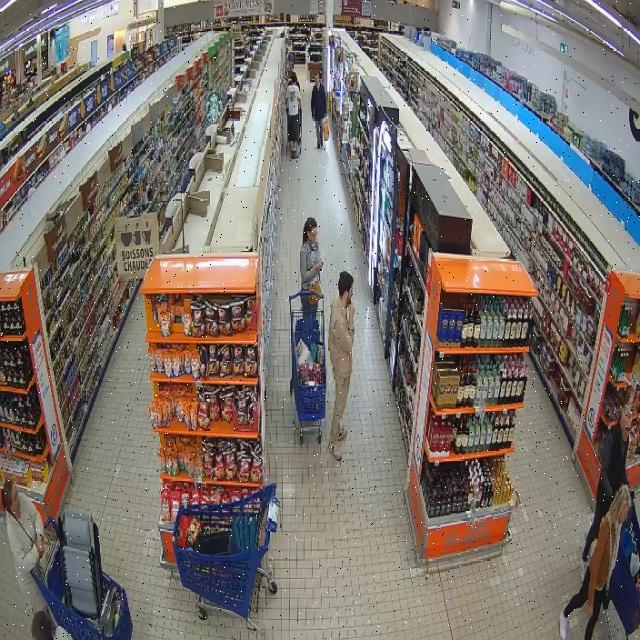bags: (308, 280, 321, 303)
hands: (36, 535, 44, 556), (586, 603, 593, 617), (314, 262, 323, 271), (348, 306, 354, 319)
person: (561, 486, 632, 639), (583, 406, 631, 577), (2, 480, 47, 613), (327, 271, 354, 459), (300, 217, 323, 313)
